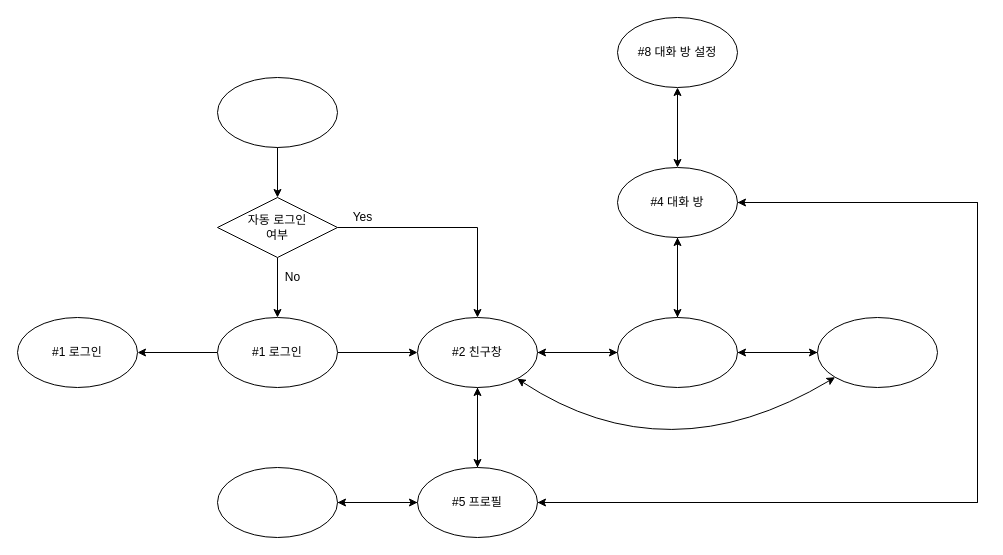
Image size: 1003x555. Some labels were removed from this diagram. Here are the shapes that lost their labels. From the top down, the box of each, then its label:
(216, 76, 338, 148): 앱 실행
(616, 316, 738, 388): #3 대화 목록
(816, 316, 938, 388): #6 설정
(216, 466, 338, 538): #7 프로필 설정
